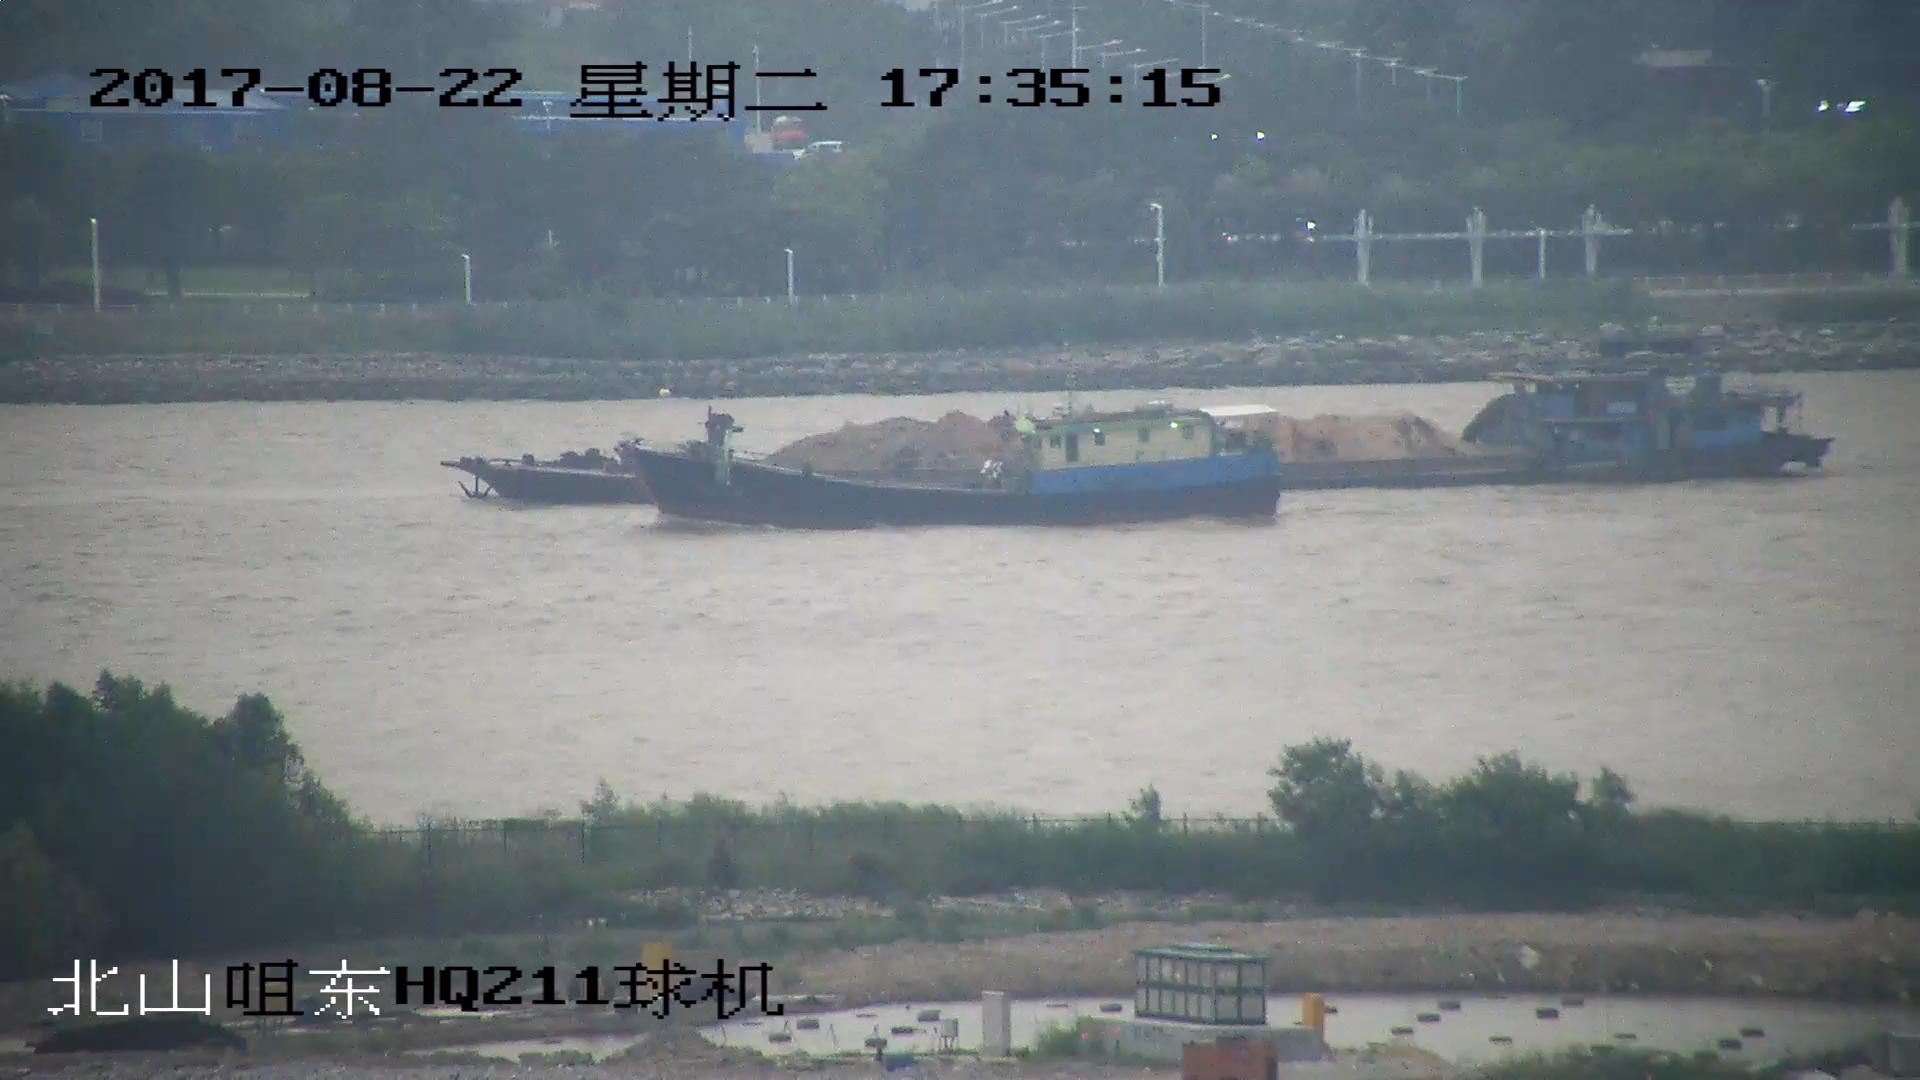fishing boat: (629, 388, 1278, 524)
ore carrier: (448, 354, 1833, 506)
